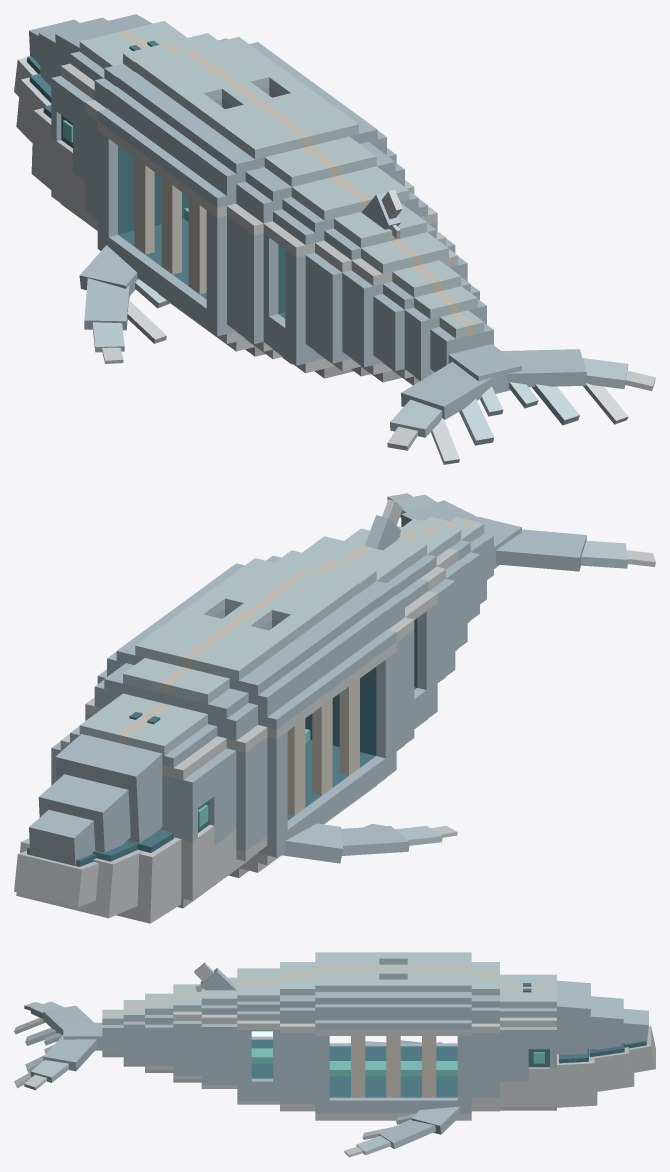
File: PhantomWhale.glb
3 renders of one model, top to bottom at view 1: azimuth 30°, elevation 25°; view 2: azimuth 150°, elevation 25°; view 3: azimuth 270°, elevation 25°, orthographic. The views are drawn at different scales.
Visible parts, largest first — view 1: Chest, Fluke, Head, T2, T1, T3, T4, FlipperL, T5, T6, T7; view 2: Chest, Head, Fluke, T2, T1, T3, FlipperL, T4, T5, T6; view 3: Chest, Head, T2, T1, Fluke, T3, T4, FlipperR, T5, T6, Chest_Glow, T7 (+1 smaller).
Part boxes in pixels (<box>): Chest: <box>85,33,396,356</box>; Fluke: <box>387,344,655,464</box>; Head: <box>14,14,187,230</box>; T2: <box>263,166,437,378</box>; T1: <box>227,136,414,364</box>; T3: <box>305,189,455,376</box>; T4: <box>342,232,467,382</box>; FlipperL: <box>79,245,170,363</box>; T5: <box>373,260,479,385</box>; T6: <box>404,286,486,380</box>; T7: <box>430,310,493,371</box>; Chest: <box>85,558,396,877</box>; Head: <box>14,693,236,923</box>; Fluke: <box>387,493,655,571</box>; T2: <box>302,536,437,728</box>; T1: <box>266,550,414,750</box>; T3: <box>344,499,455,682</box>; FlipperL: <box>280,823,457,863</box>; T4: <box>397,526,467,650</box>; T5: <box>402,518,479,622</box>; T6: <box>425,516,486,603</box>; Chest: <box>315,952,499,1120</box>; Head: <box>500,974,655,1110</box>; T2: <box>237,968,279,1104</box>; T1: <box>280,962,315,1111</box>; Fluke: <box>14,1001,102,1090</box>; T3: <box>194,962,237,1088</box>; T4: <box>173,984,201,1082</box>; FlipperR: <box>344,1106,462,1157</box>; T5: <box>145,993,173,1072</box>; T6: <box>123,1000,144,1066</box>; Chest_Glow: <box>329,1061,457,1076</box>; T7: <box>102,1009,123,1057</box>.
Bounding box in the file's own units: 18.69 × 10.94 × 45.19.
